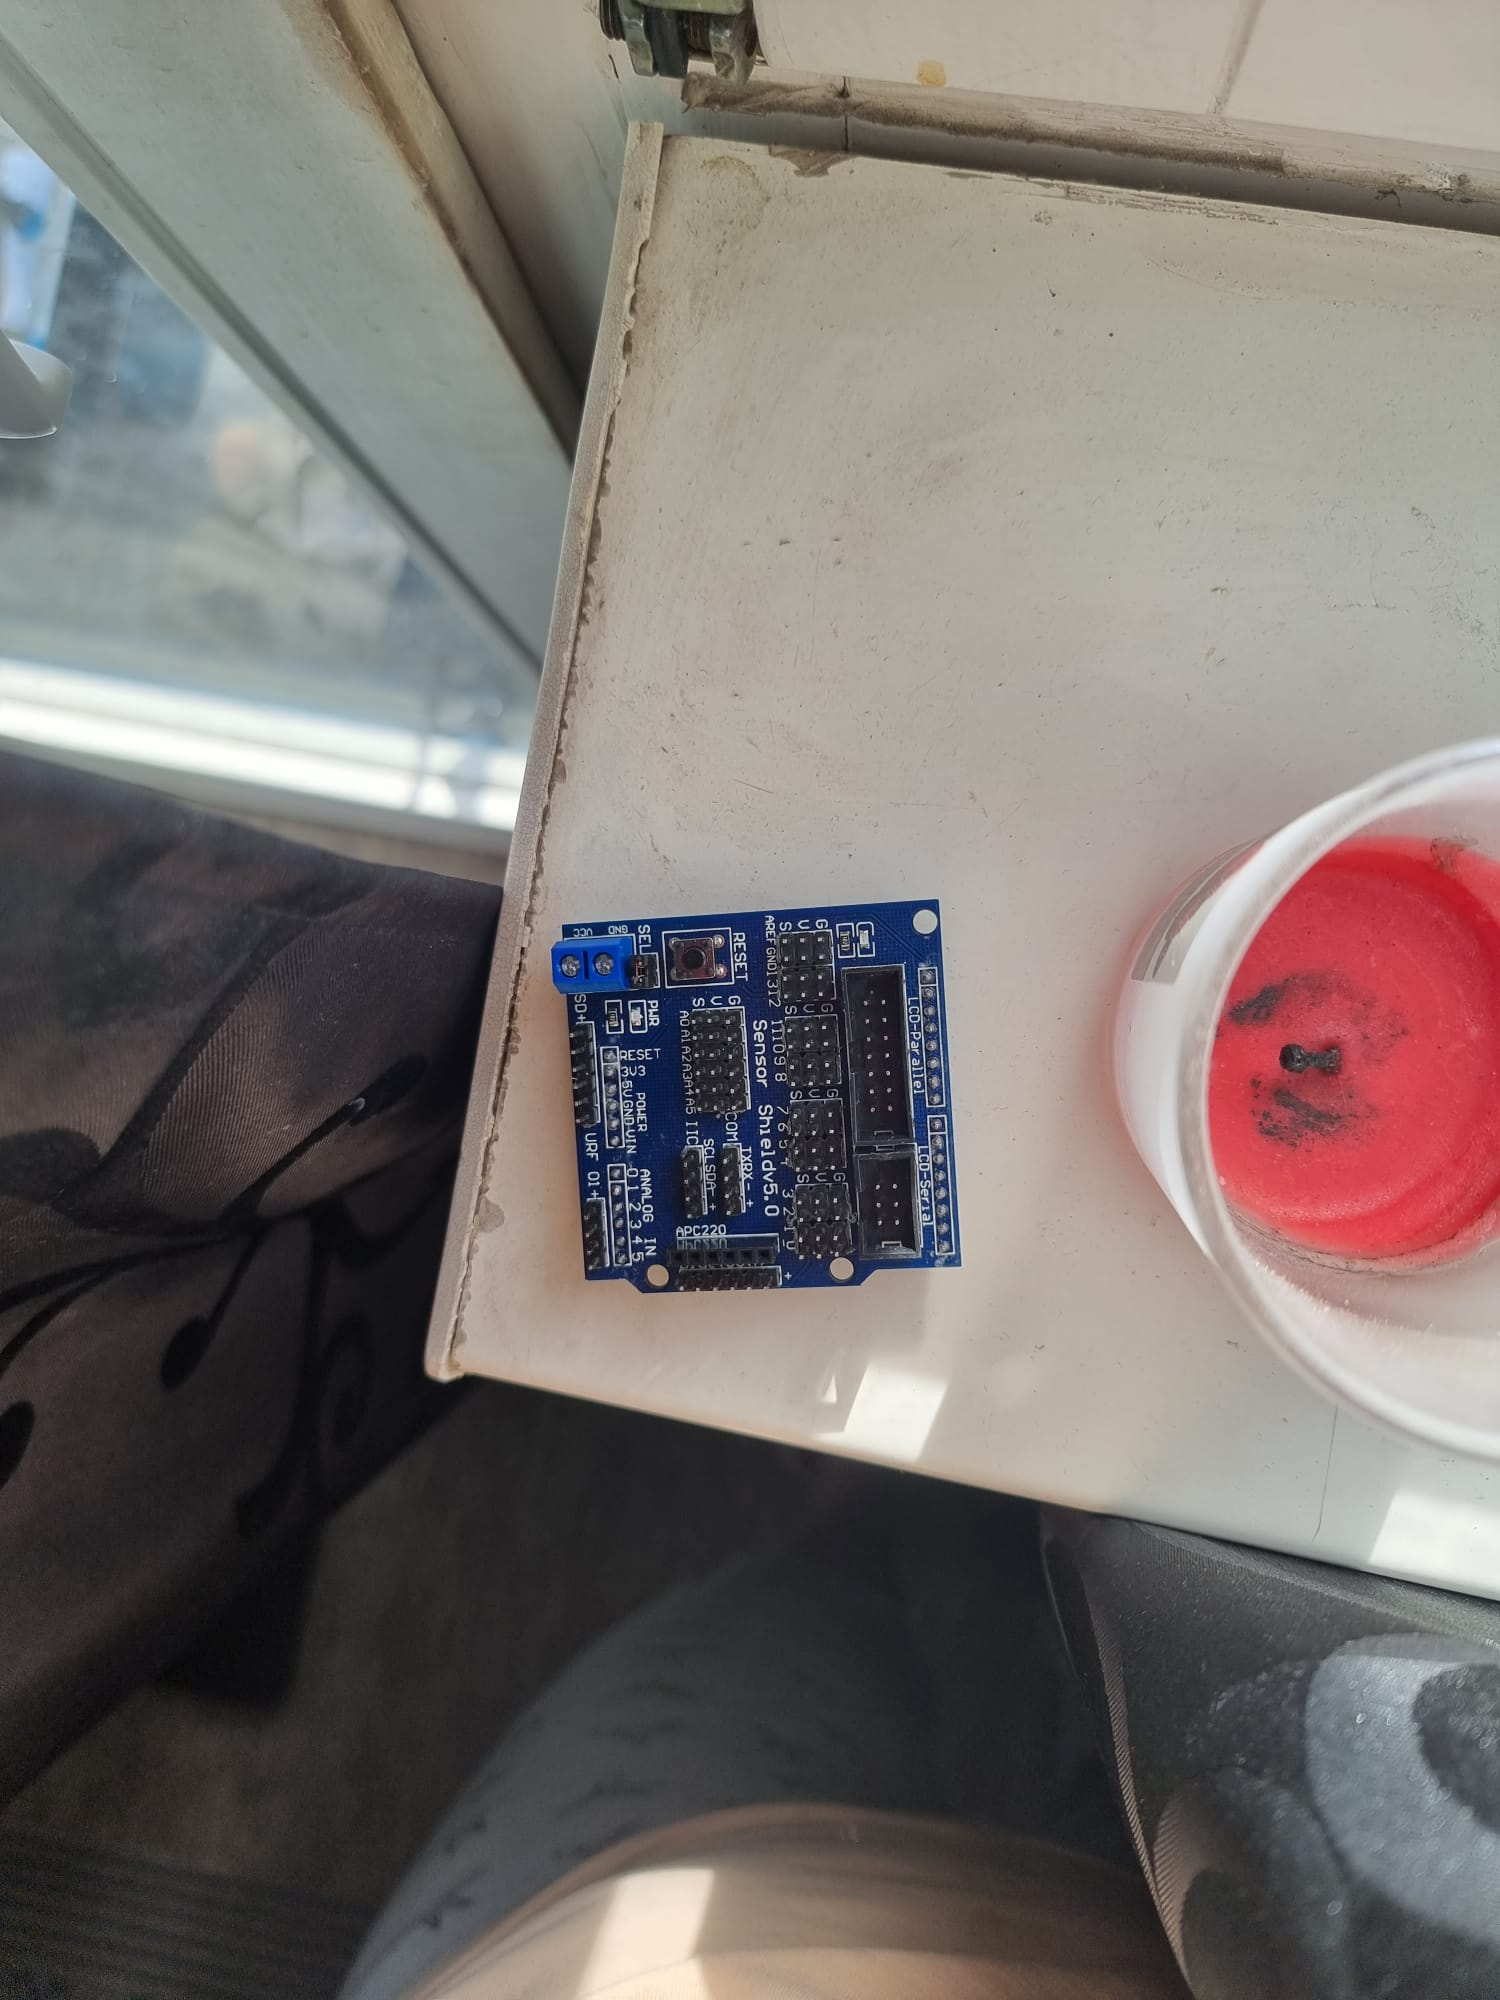5V EXPANSION: (561, 894, 978, 1306)
